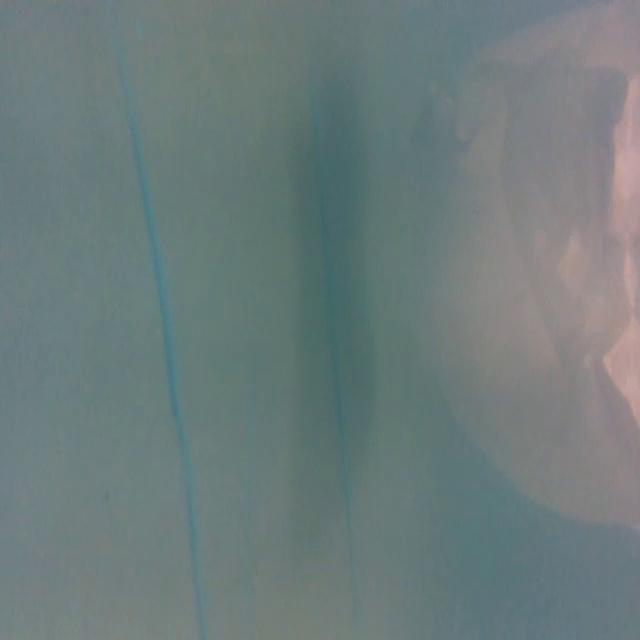plastic bags: (410, 21, 640, 537)
